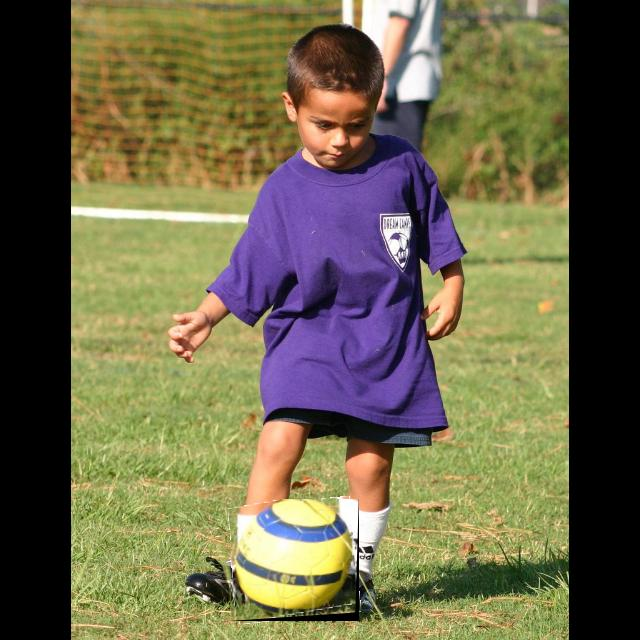Football: (231, 499, 359, 621)
